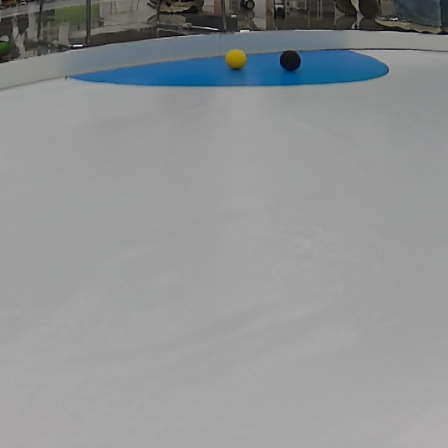black: (278, 45, 305, 71)
blue_base: (74, 48, 393, 87)
yellow: (225, 48, 250, 70)
